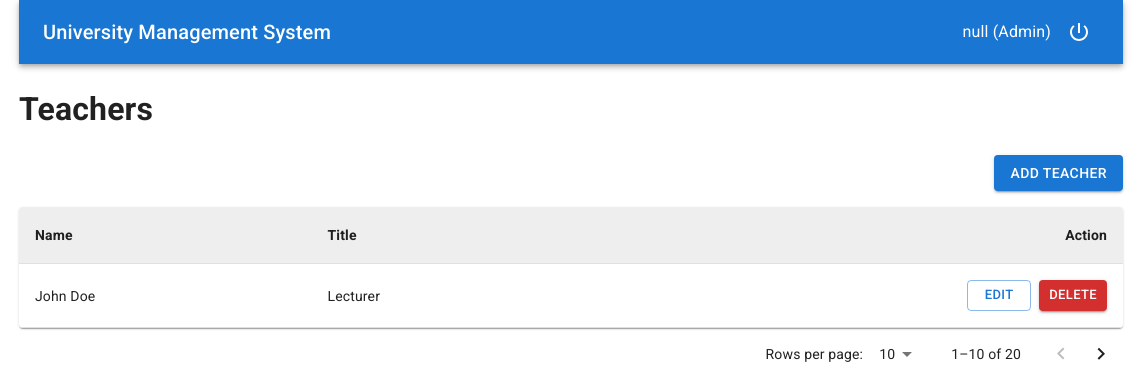
Test: TeacherPage › requests the paged teachers endpoint and loads the next page on navigation
Expected: the text "John Doe" is shown, [19, 264, 312, 328]
Step 1. Click the button named "next page" → (1101, 354), box [1081, 334, 1121, 374]
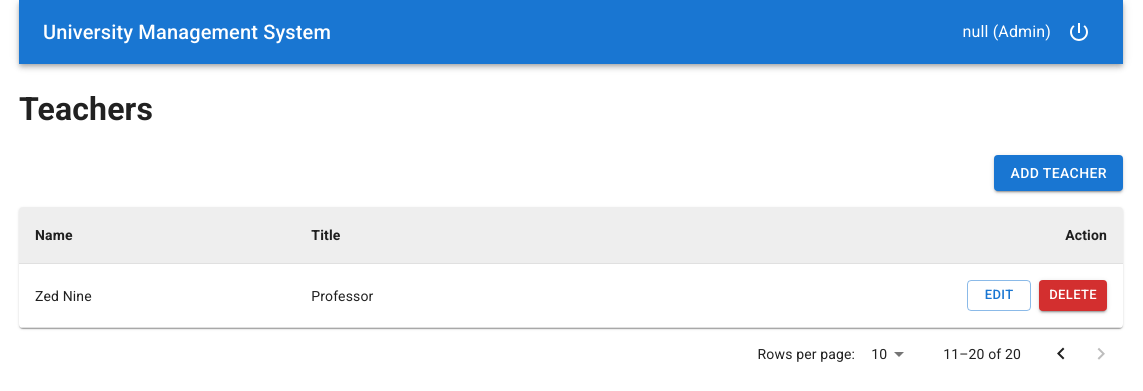
Now the text "Zed Nine" is shown, box [19, 264, 295, 328]
